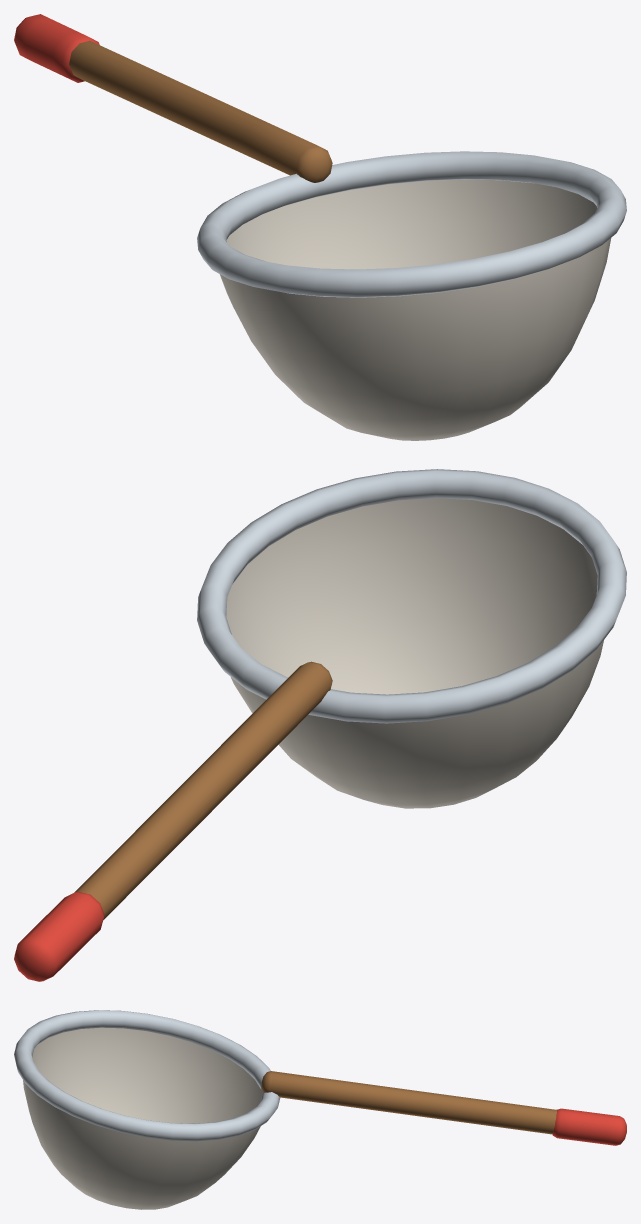
File: kescher.glb
3 views of the same model, one above another, from view 1: azimuth 30°, elevation 25°; view 2: azimuth 150°, elevation 25°; view 3: azimuth 270°, elevation 25° (orthographic). The views are drawn at different scales.
Parts seen in each view (by area): view 1: kescher-matt, kescher-metall, kescher-lack; view 2: kescher-matt, kescher-metall, kescher-lack; view 3: kescher-matt, kescher-metall, kescher-lack.
Part boxes in pixels (left/top/right/bottom): kescher-matt: left=69, top=40, right=611, bottom=440; kescher-metall: left=197, top=151, right=626, bottom=297; kescher-lack: left=14, top=14, right=99, bottom=82; kescher-matt: left=74, top=498, right=603, bottom=919; kescher-metall: left=197, top=469, right=626, bottom=723; kescher-lack: left=14, top=892, right=104, bottom=981; kescher-matt: left=23, top=1027, right=556, bottom=1209; kescher-metall: left=14, top=1010, right=280, bottom=1141; kescher-lack: left=552, top=1108, right=626, bottom=1145.
Size of the model in its own units: 0.644 by 0.3949 by 1.46.
